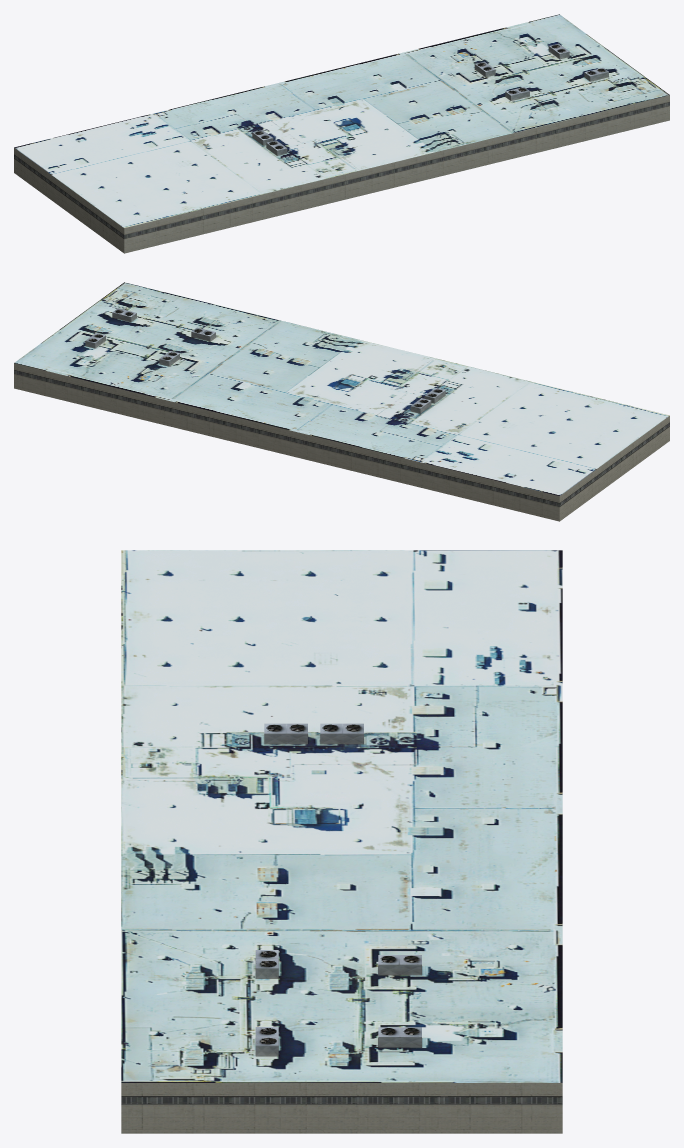
File: Building7.gltf
3 renders of one model, top to bottom at view 1: azimuth 30°, elevation 25°; view 2: azimuth 150°, elevation 25°; view 3: azimuth 270°, elevation 25°, orthographic. The views are drawn at different scales.
Parts seen in each view (by area): view 1: Building7; view 2: Building7; view 3: Building7.
Part boxes in pixels (x1,y1,x2,y2): Building7: [14, 14, 669, 253]; Building7: [14, 282, 669, 521]; Building7: [121, 550, 562, 1133].
Bounding box in the file's own units: 214 × 11.5 × 74.76.
1 material, 1 textured.
